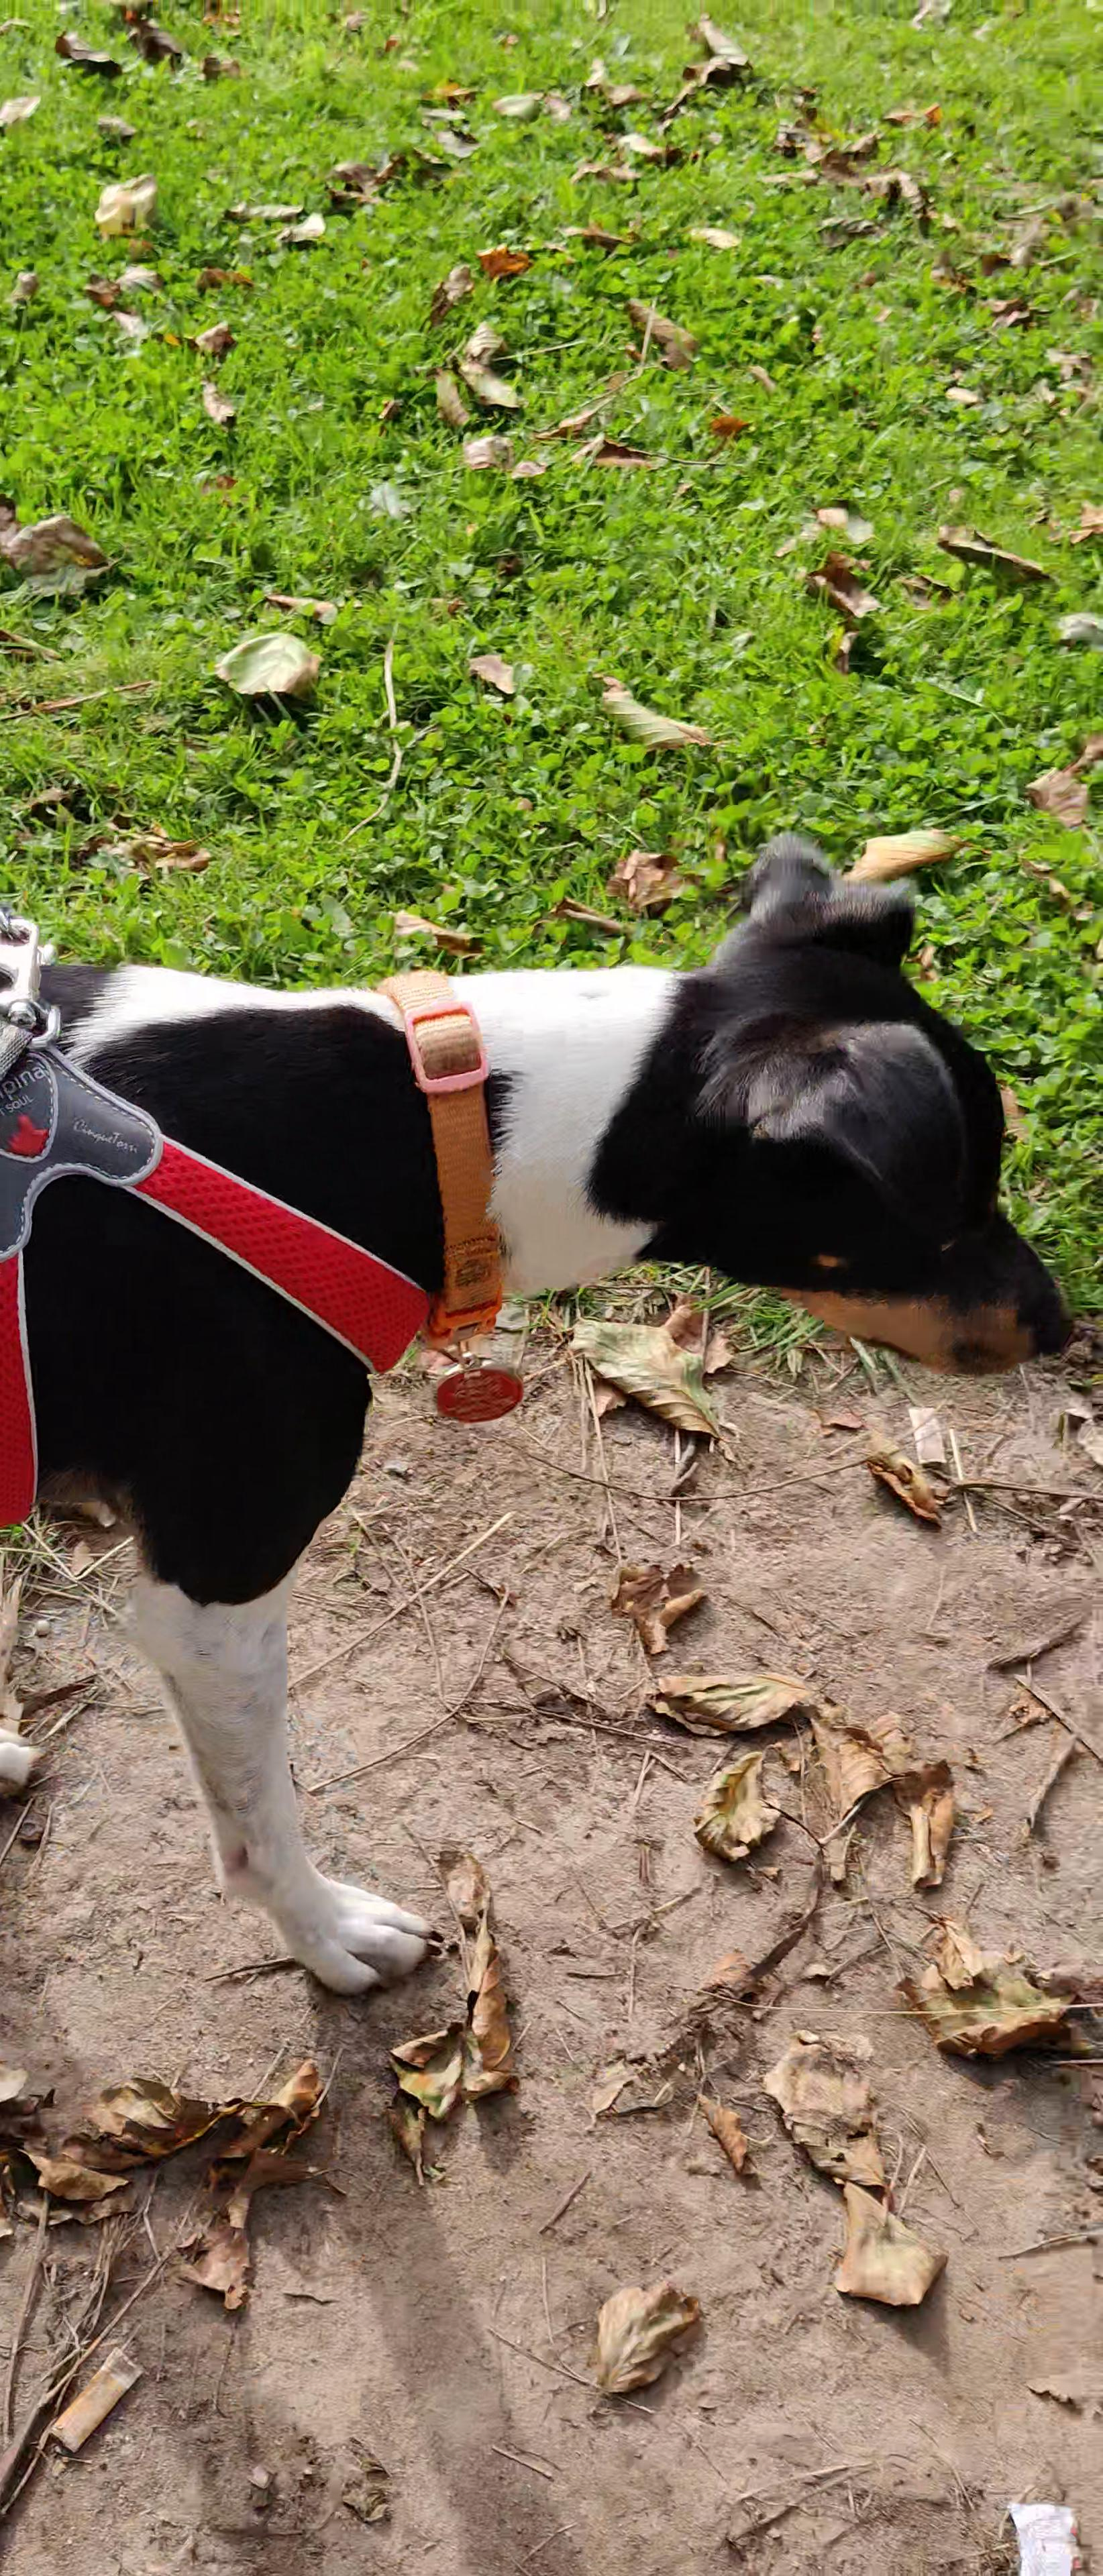Dog: (0, 807, 1080, 2009)
